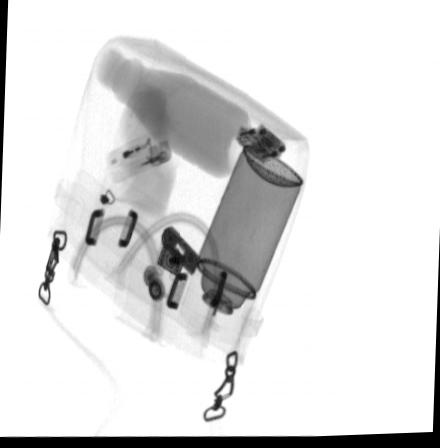Lighter: (105, 128, 170, 184)
Sprayer: (176, 148, 302, 348)
